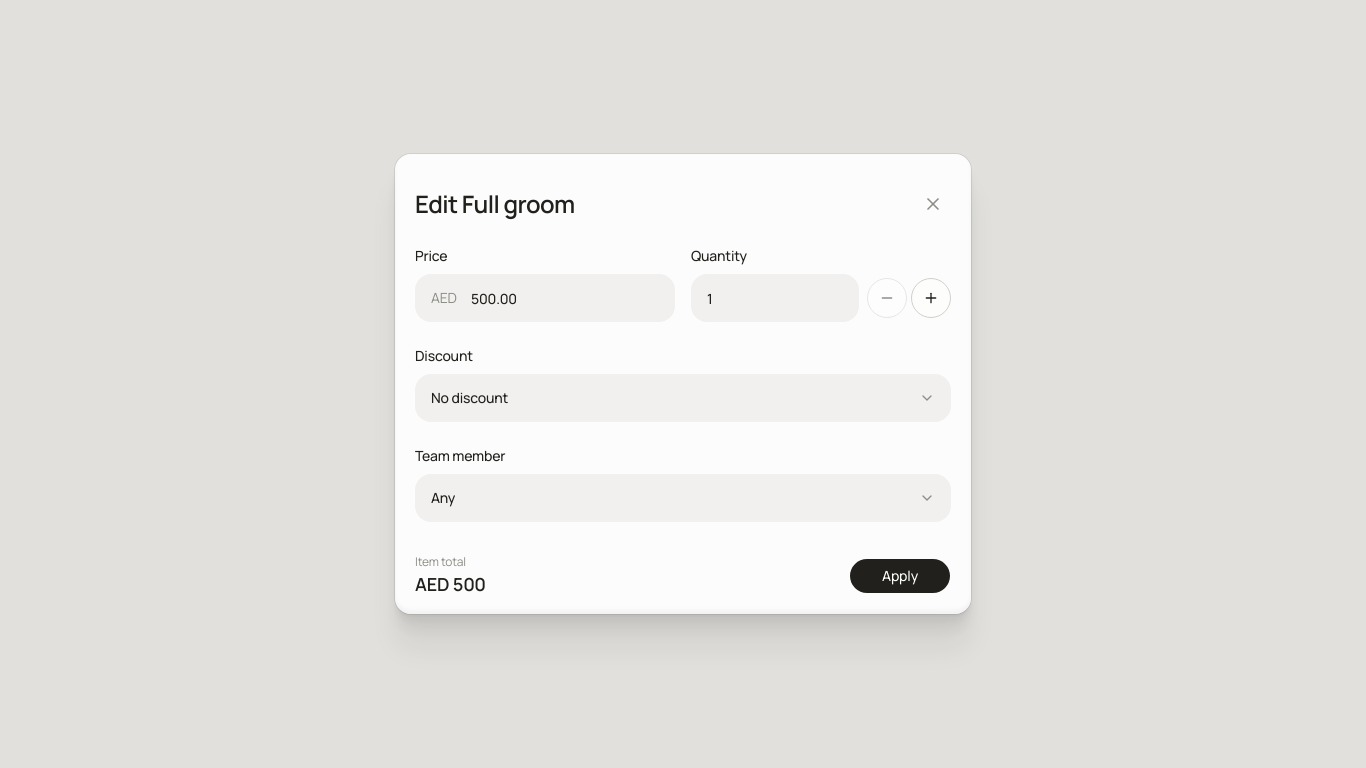
Test: which deals a line may take › offers that same deal at the branch it belongs to
The width and height of the screenshot is (1366, 768).
Click the dropdown labelled "discount" at (470, 398), box 415,374 -> 951,422
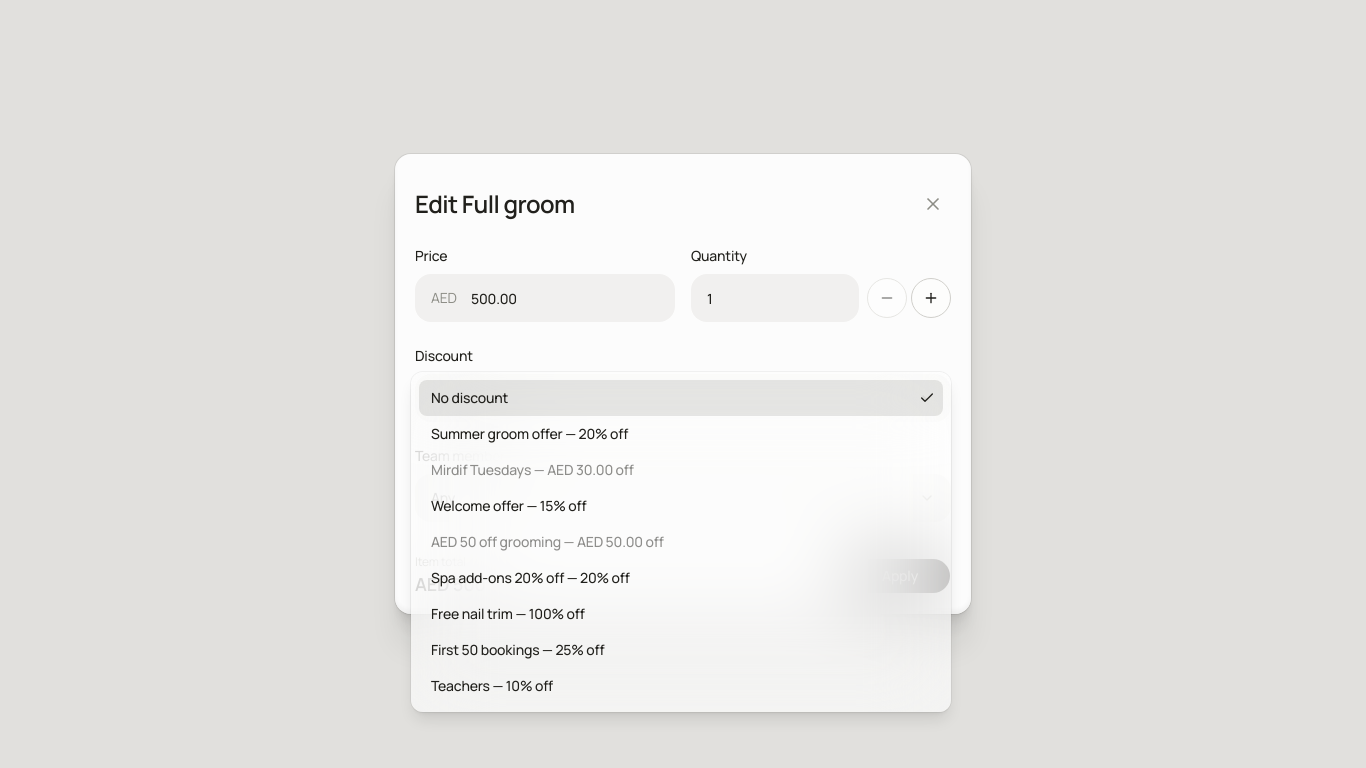
Now the text "Mirdif Tuesdays — AED 30.00 off" is shown, box 431,460 -> 634,480
